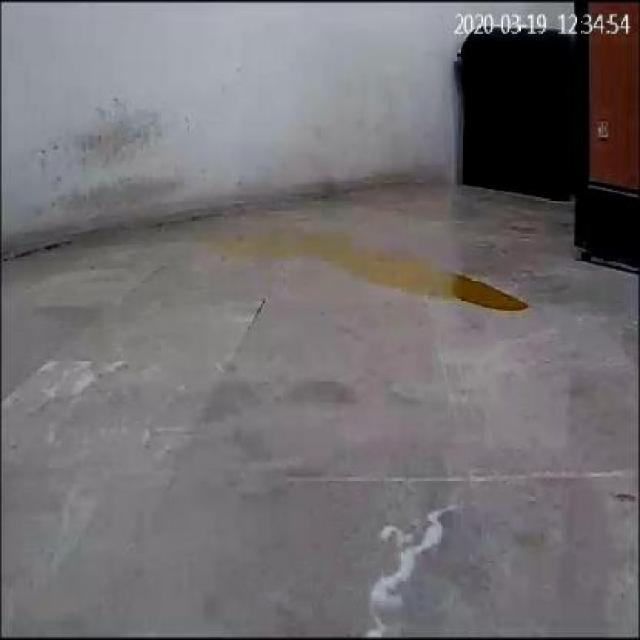spill: (232, 220, 530, 314)
